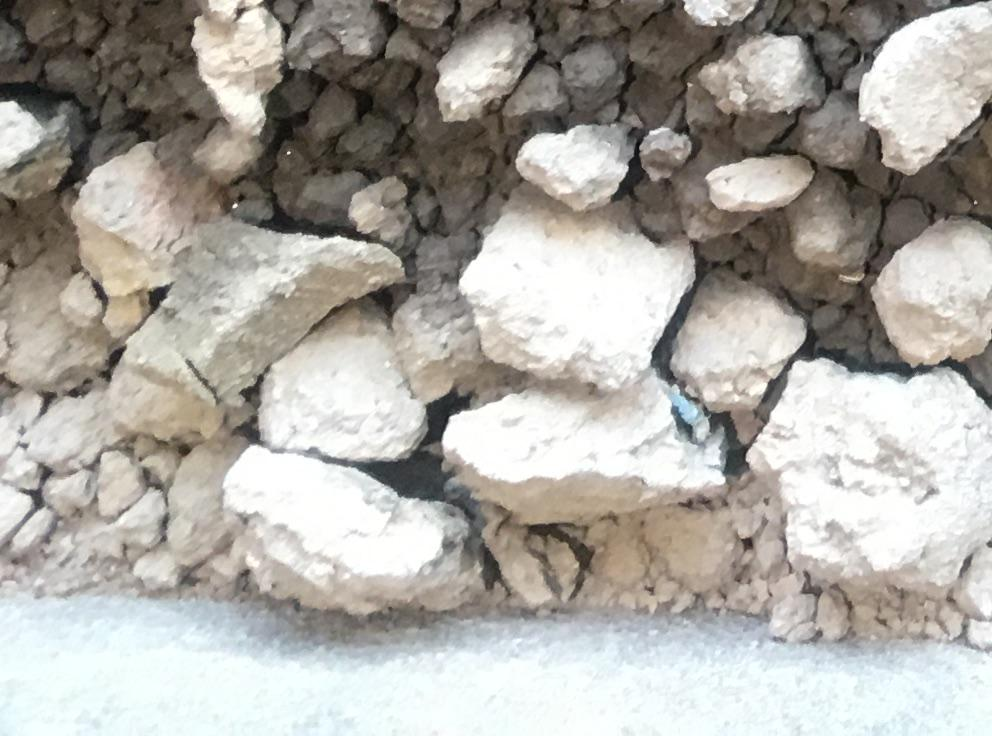block: (117, 218, 403, 445), (749, 352, 992, 606), (462, 177, 697, 389), (224, 447, 495, 617), (443, 368, 731, 526), (258, 284, 438, 465), (81, 134, 232, 295), (858, 6, 991, 176), (865, 203, 992, 366), (669, 269, 807, 412)
